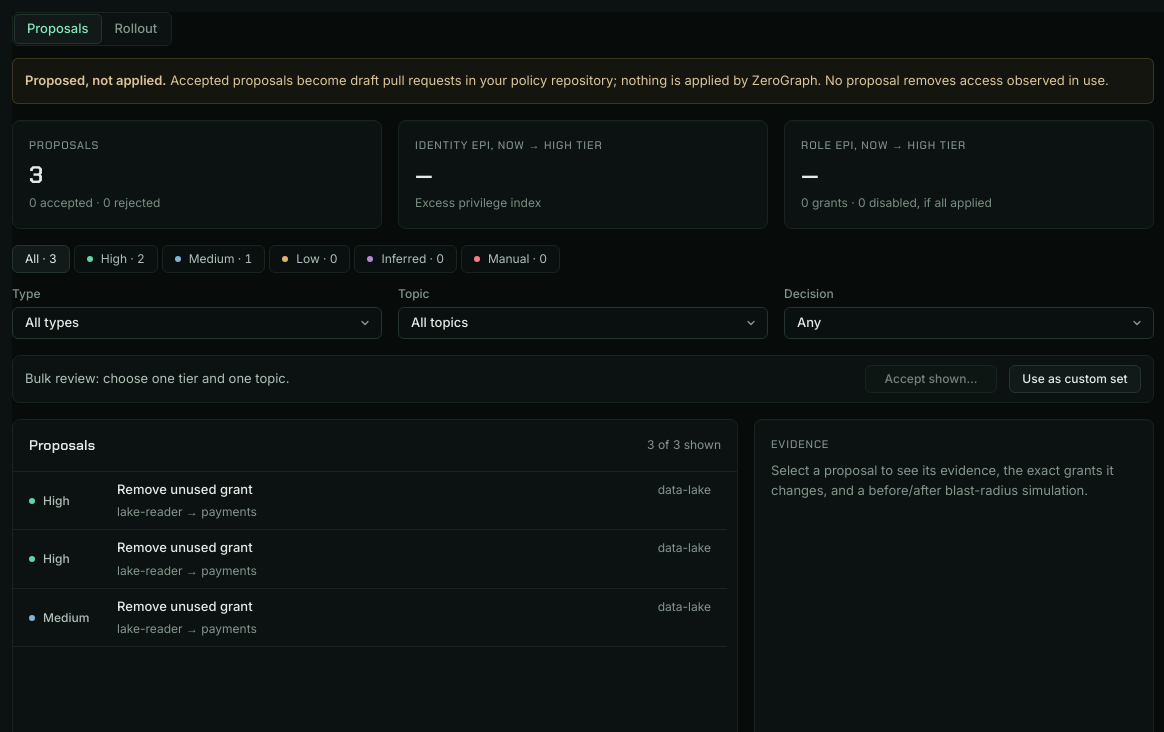
Scenario: Proposal queue bulk review › does not offer bulk accept for the manual tier
What coordinates should you click on to do the following:
click the button "Manual · 0"
I would click on:
 (510, 259)
Its box is x1=461 y1=245 x2=560 y2=273.
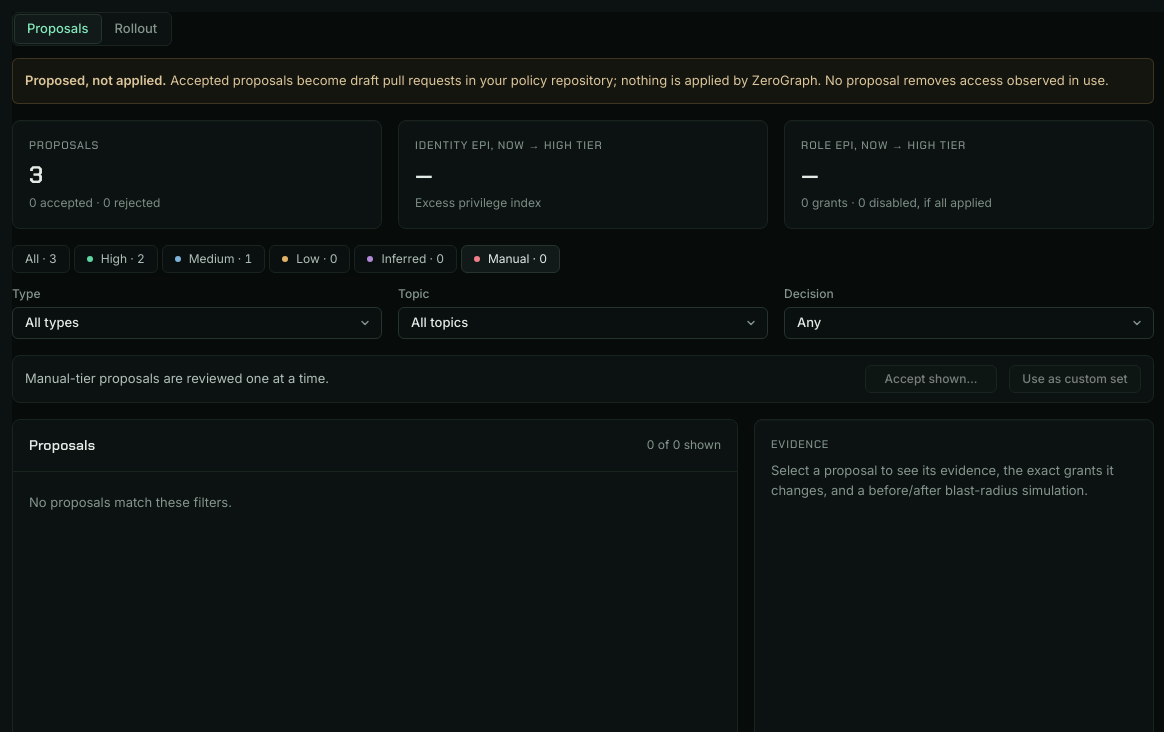
Expected: the button "Accept shown…" is disabled, x1=865 y1=365 x2=997 y2=393
Now the text "Manual-tier proposals are reviewed one at a time." is shown, box x1=25 y1=370 x2=329 y2=386
